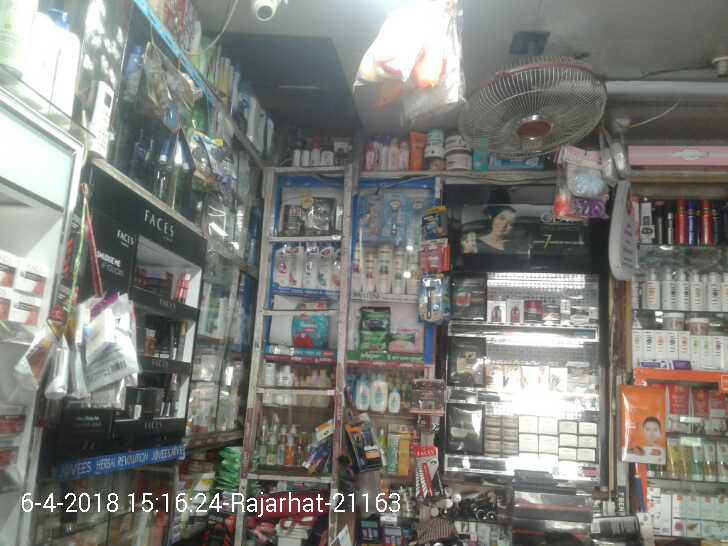gillete: (418, 276, 450, 319), (423, 205, 449, 239), (421, 241, 449, 271)
venus: (382, 193, 407, 237), (409, 196, 420, 236)
